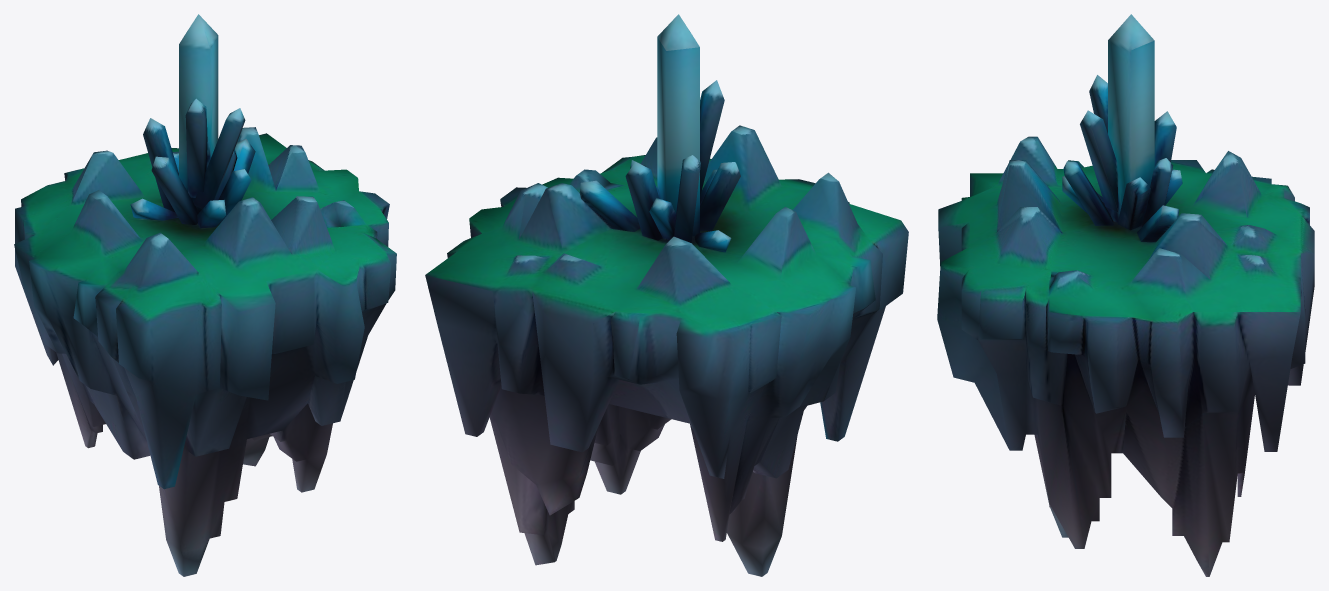
File: tripo_convert_ed315d17-547f-492a-8f7d-5cd66b69946f.fbx
3 views of the same model, side by side, from view 1: azimuth 30°, elevation 25°; view 2: azimuth 150°, elevation 25°; view 3: azimuth 270°, elevation 25° (orthographic). The views are drawn at different scales.
Visible parts, largest first — view 1: tripo_node_ed315d17; view 2: tripo_node_ed315d17; view 3: tripo_node_ed315d17.
Boxes of the visible parts, x1,y1,x2,y2 form: tripo_node_ed315d17: (14,14,396,576); tripo_node_ed315d17: (425,14,908,576); tripo_node_ed315d17: (937,14,1314,576).
Bounding box in the file's own units: 0.6582 × 0.998 × 0.6309.
Materials: 1 (1 with a texture image).
